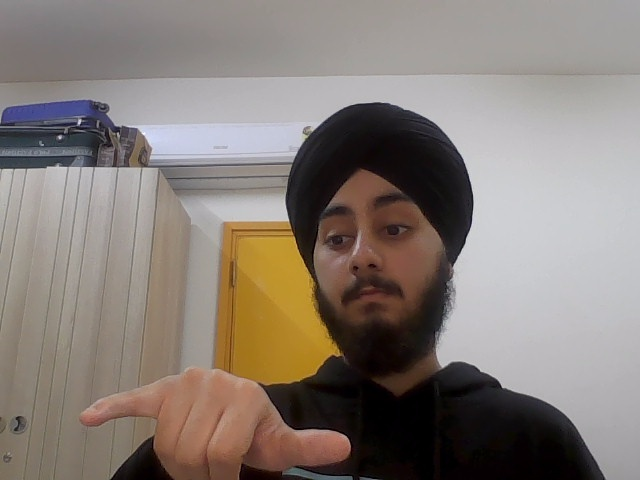Same: (73, 362, 357, 480)
